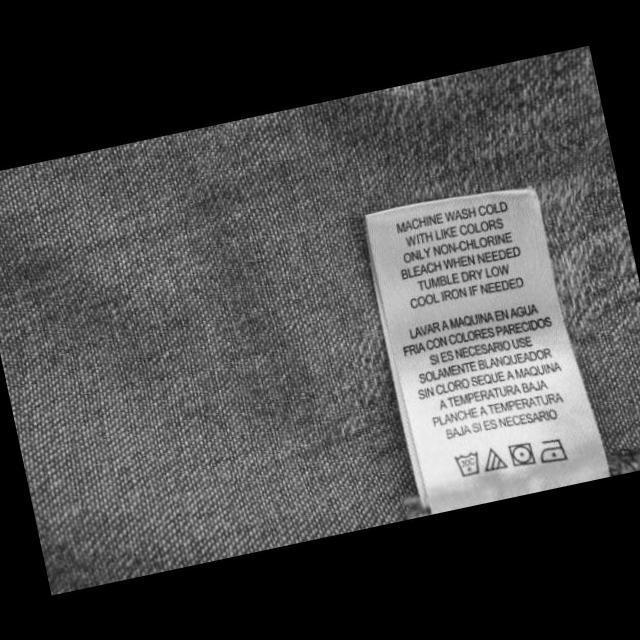30C: (452, 450, 484, 480)
iron_low: (536, 435, 571, 468)
non_chlorine_bleach: (478, 444, 509, 476)
tumble_dry_low: (506, 438, 538, 470)
